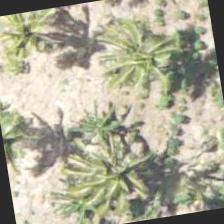Kelapa_Sawit: (93, 3, 196, 106), (58, 124, 162, 223), (0, 5, 78, 78)
